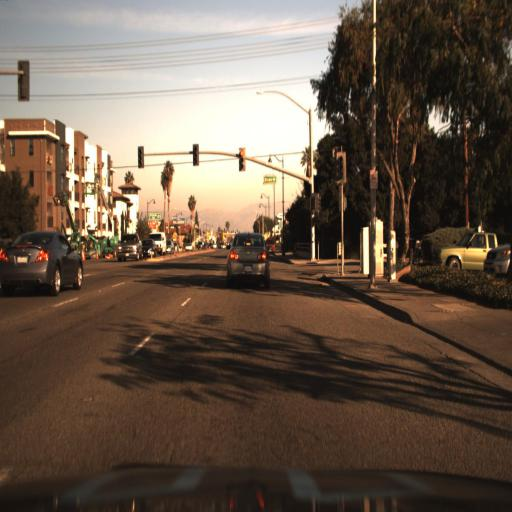car: (2, 220, 84, 301), (433, 224, 509, 270), (226, 224, 268, 292), (117, 233, 140, 260), (152, 230, 166, 258), (142, 236, 155, 257)
trafficLight: (235, 144, 248, 173), (336, 150, 346, 186), (308, 190, 318, 212), (310, 192, 316, 213)
trafficLight-Red: (191, 141, 200, 171)
